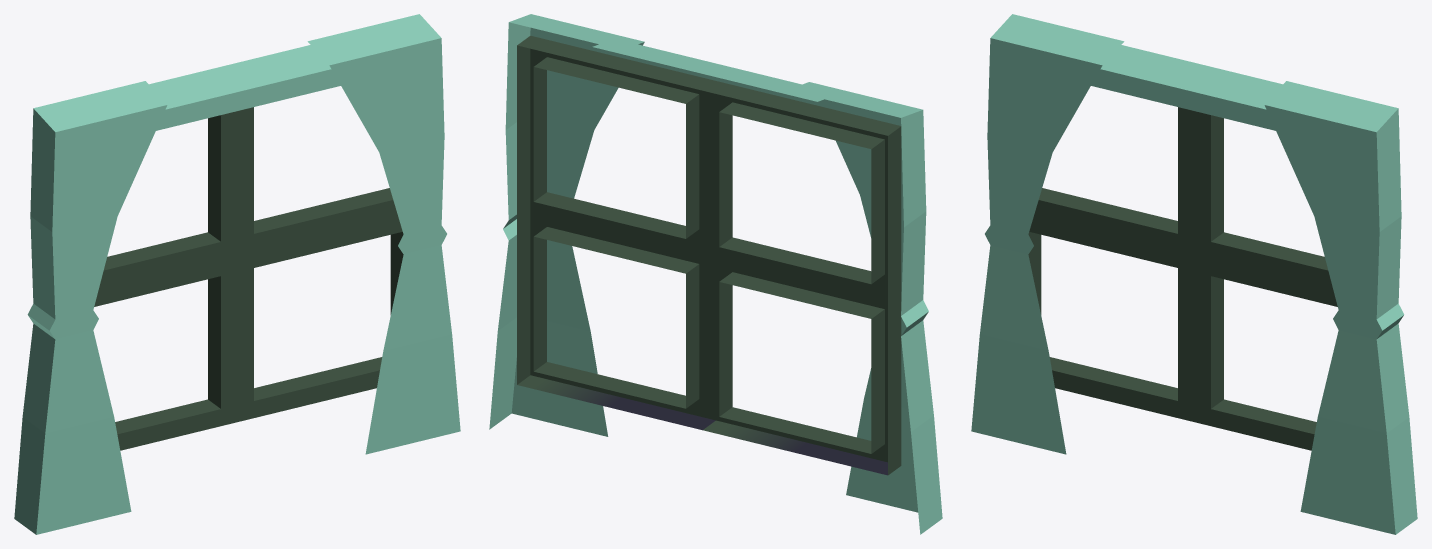
Rendered from Finestra_2.fbx.
3 views of the same model, side by side, from view 1: azimuth 30°, elevation 25°; view 2: azimuth 150°, elevation 25°; view 3: azimuth 330°, elevation 25° (orthographic).
Parts seen in each view (by area): view 1: Plane.005; view 2: Plane.005; view 3: Plane.005.
Part boxes in pixels (left/top/right/bottom): Plane.005: left=14, top=14, right=460, bottom=534; Plane.005: left=489, top=14, right=942, bottom=534; Plane.005: left=971, top=14, right=1417, bottom=534.
Bounding box in the file's own units: 223 × 204 × 22.23.
